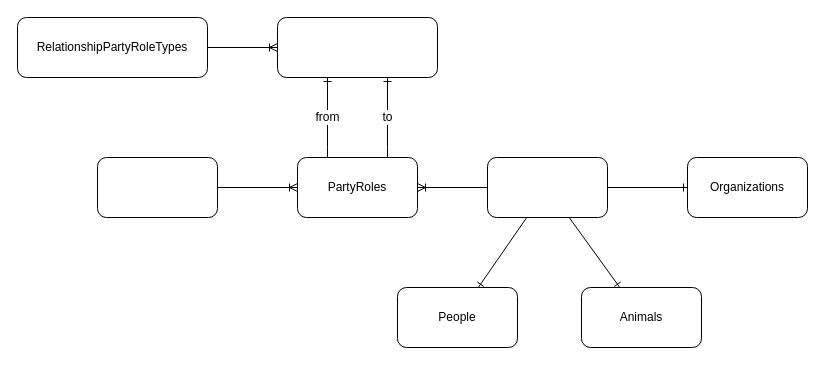
Some shapes in this 825 by 365 pixel diagram are drawn without their labels. Here are the shapes that lost their labels. From the top down, the centre of each, then its label:
At point (357, 47): "RelationshipPartyRoles".
At point (157, 187): "PartyRoleTypes".
At point (547, 187): "Parties".
